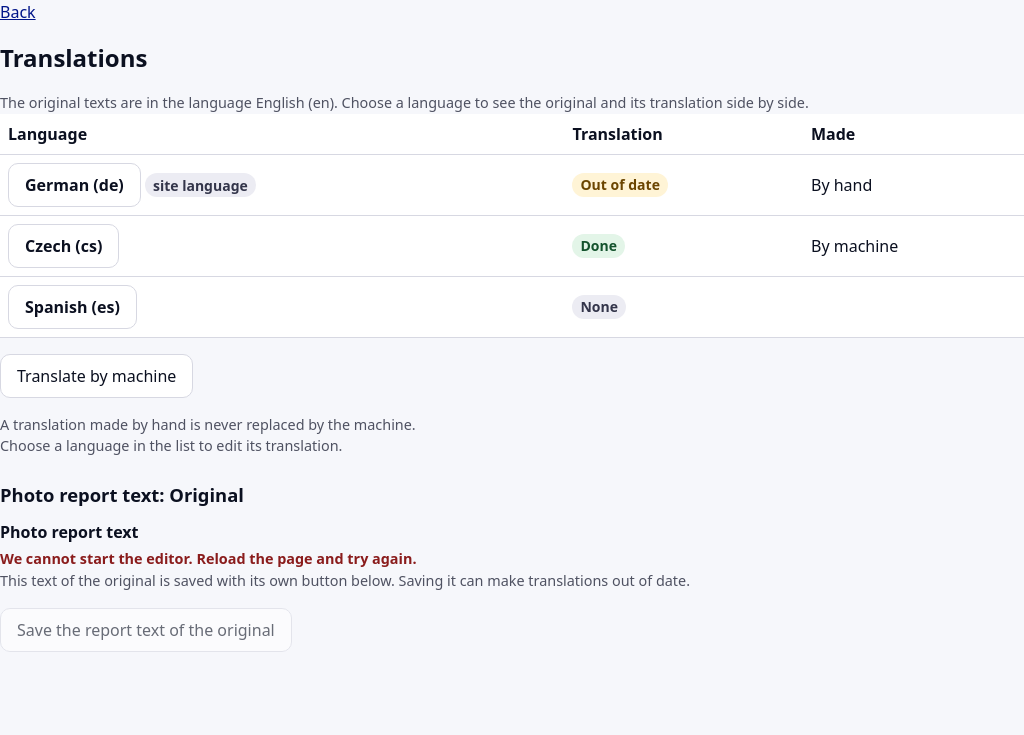
Test: editing a translation › deletes a translation only after the question
Step 1. Click the button "Czech (cs)" → {"x": 64, "y": 246}, box [8, 224, 119, 268]
(page scrolled)
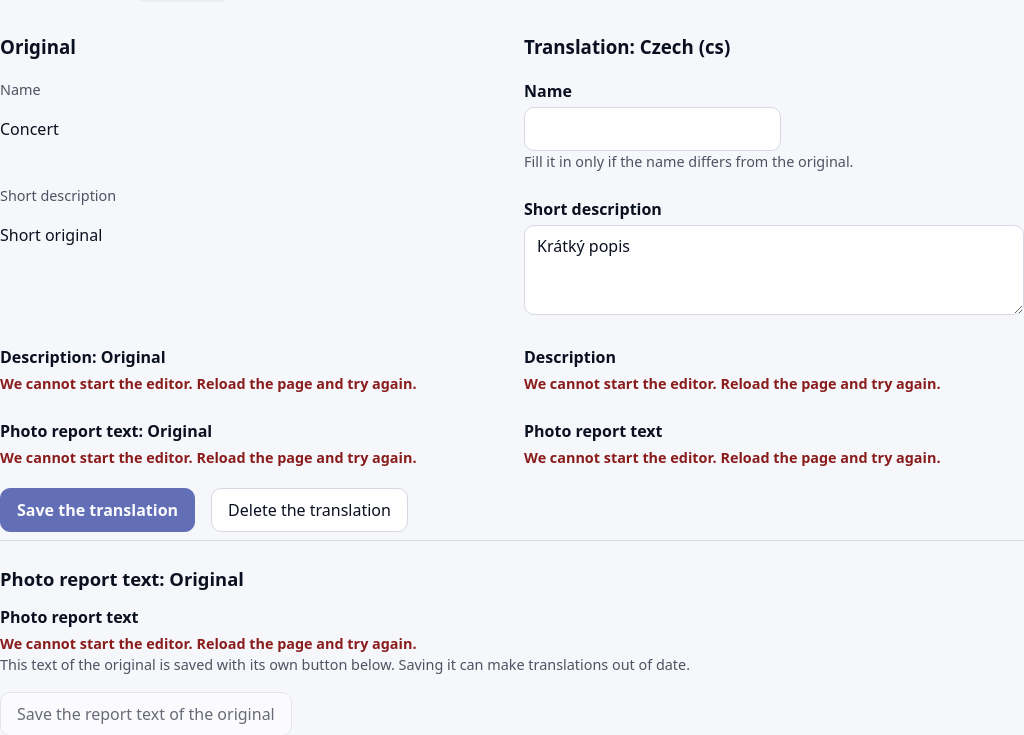
Step 2. Click the button "Delete the translation" → {"x": 310, "y": 510}, box [211, 488, 408, 532]
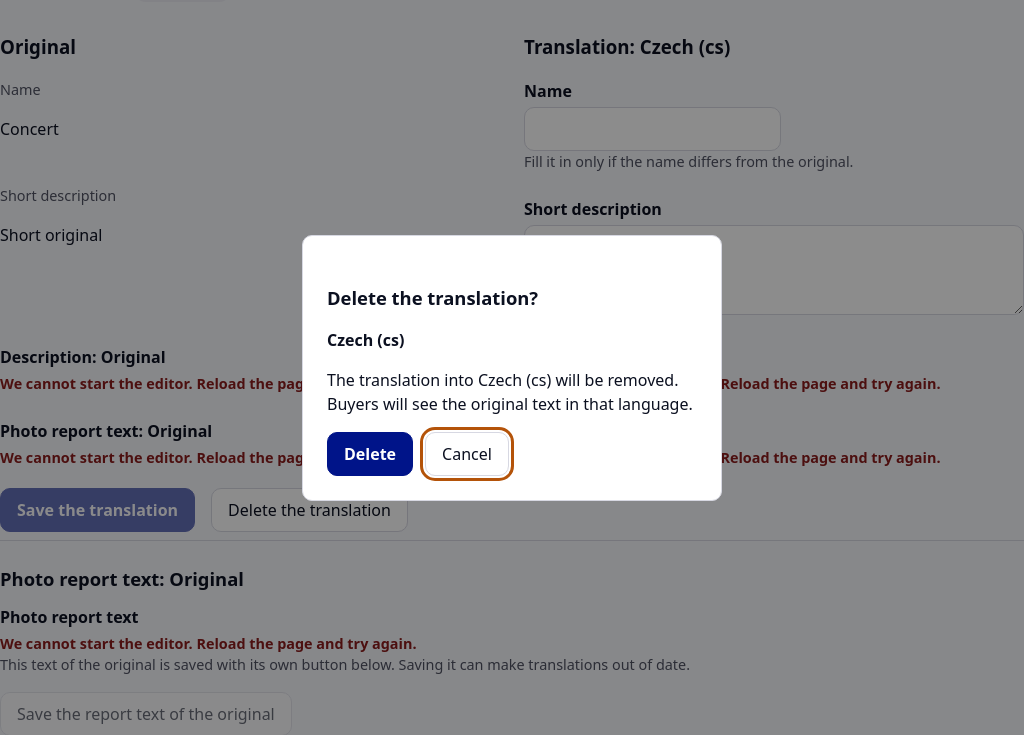
Step 3. Click the button "Delete" → {"x": 370, "y": 454}, box [327, 432, 413, 476]
(page scrolled)
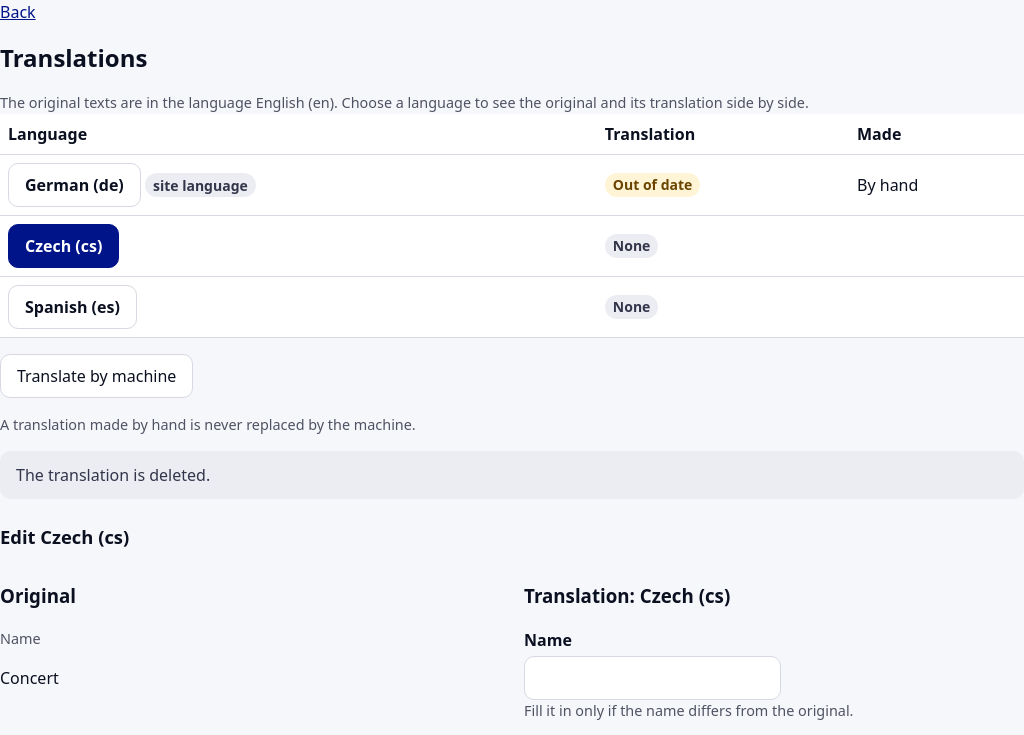
Check: the 1st cell "None" is shown, box [597, 215, 849, 276]
